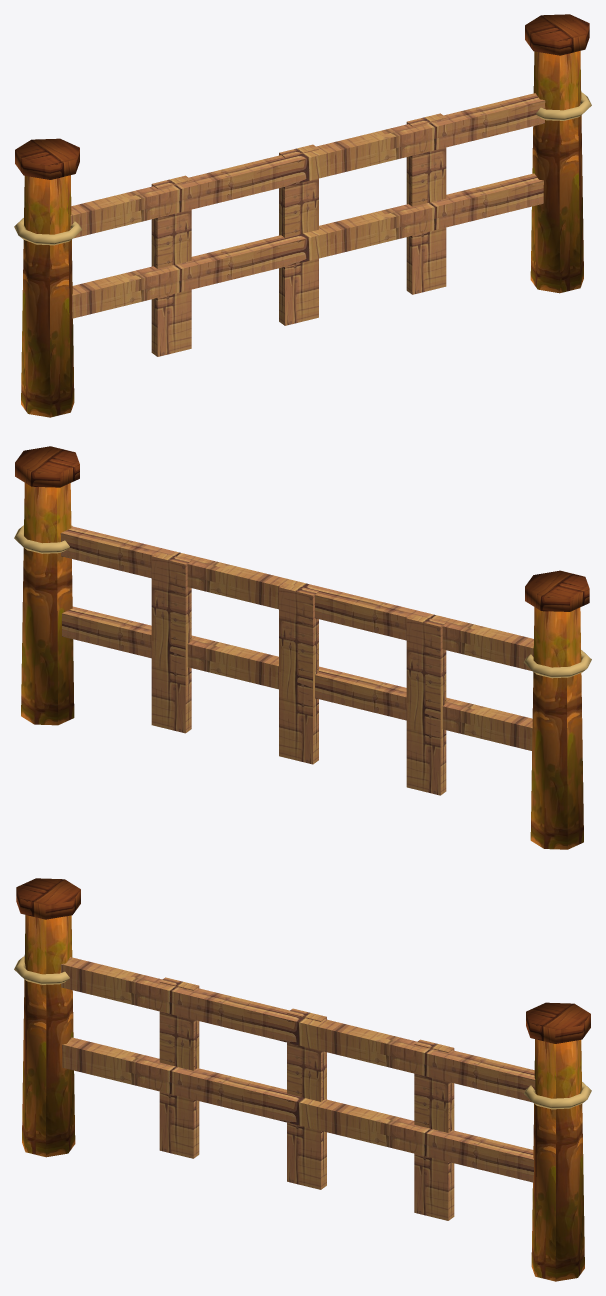
Rendered from fence.glb.
The picture shows the model from 3 angles, top to bottom: view 1: azimuth 30°, elevation 25°; view 2: azimuth 150°, elevation 25°; view 3: azimuth 330°, elevation 25°; orthographic projection.
Parts seen in each view (by area): view 1: fence; view 2: fence; view 3: fence.
Boxes of the visible parts, x1,y1,x2,y2 form: fence: [14, 14, 591, 417]; fence: [14, 446, 591, 849]; fence: [14, 878, 591, 1281].
Bounding box in the file's own units: 3.35 × 1.43 × 0.3364.
4 materials, 3 textured.
